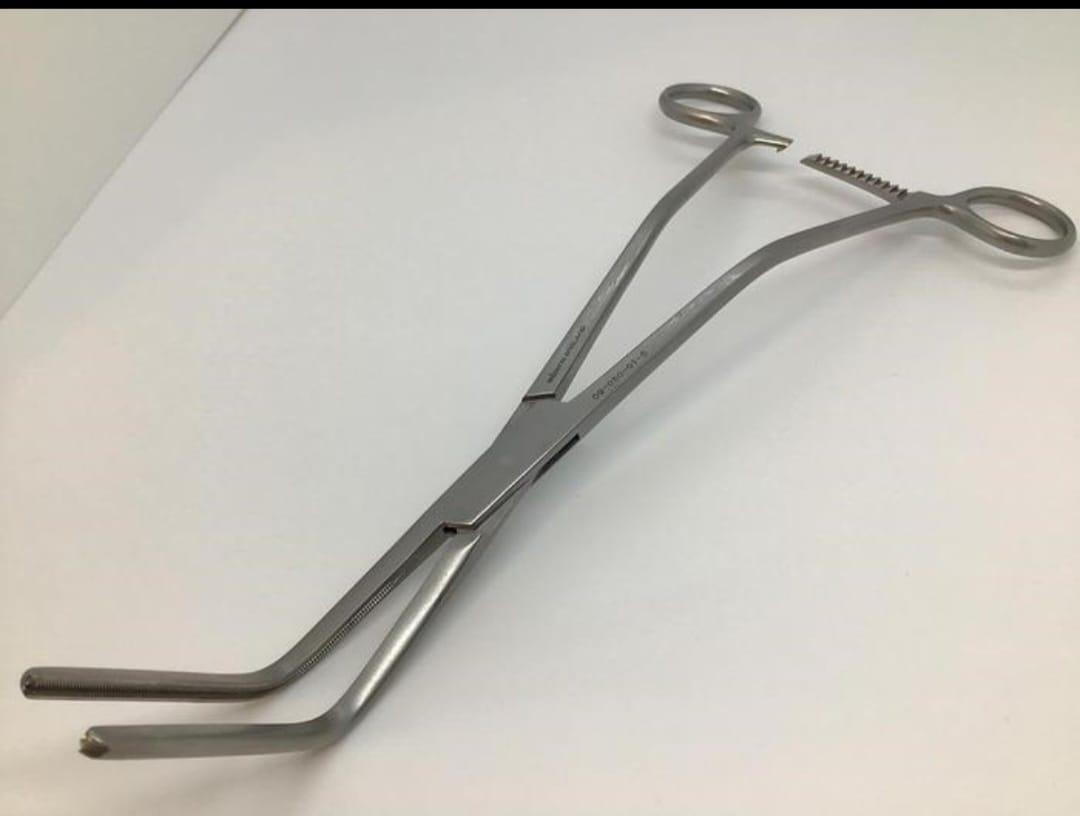Surgical blade: (19, 79, 1075, 770)
